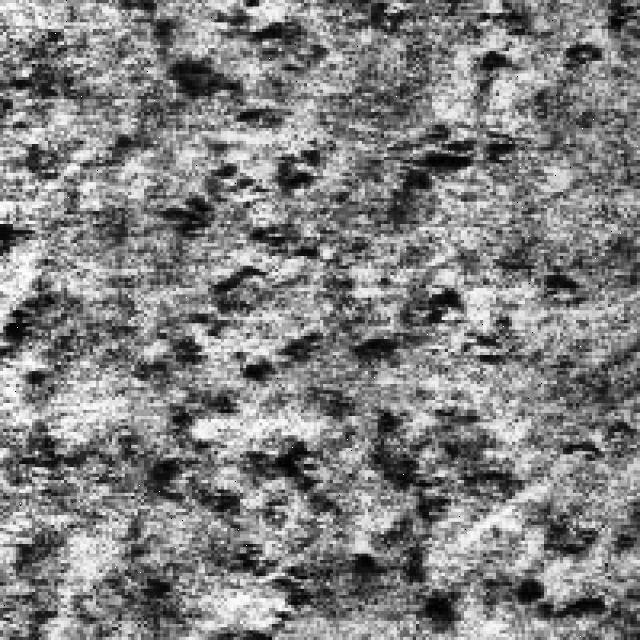Crazing: (202, 252, 624, 634), (157, 96, 541, 336)
